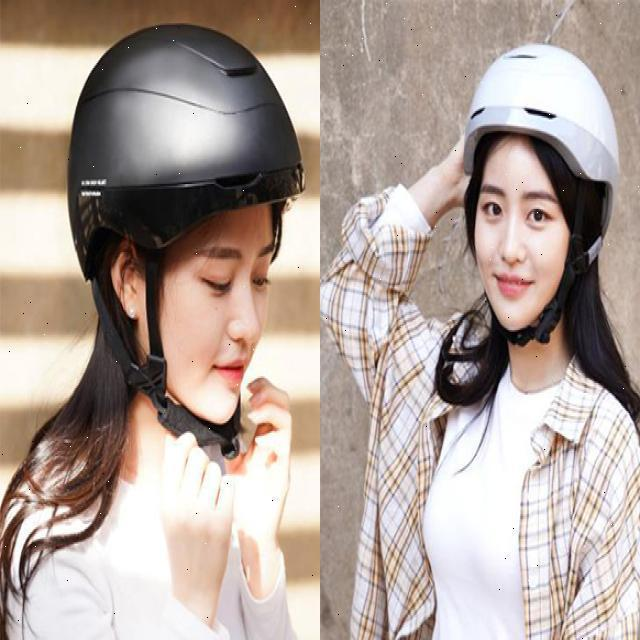helmet: (66, 24, 304, 462), (463, 44, 624, 348)
